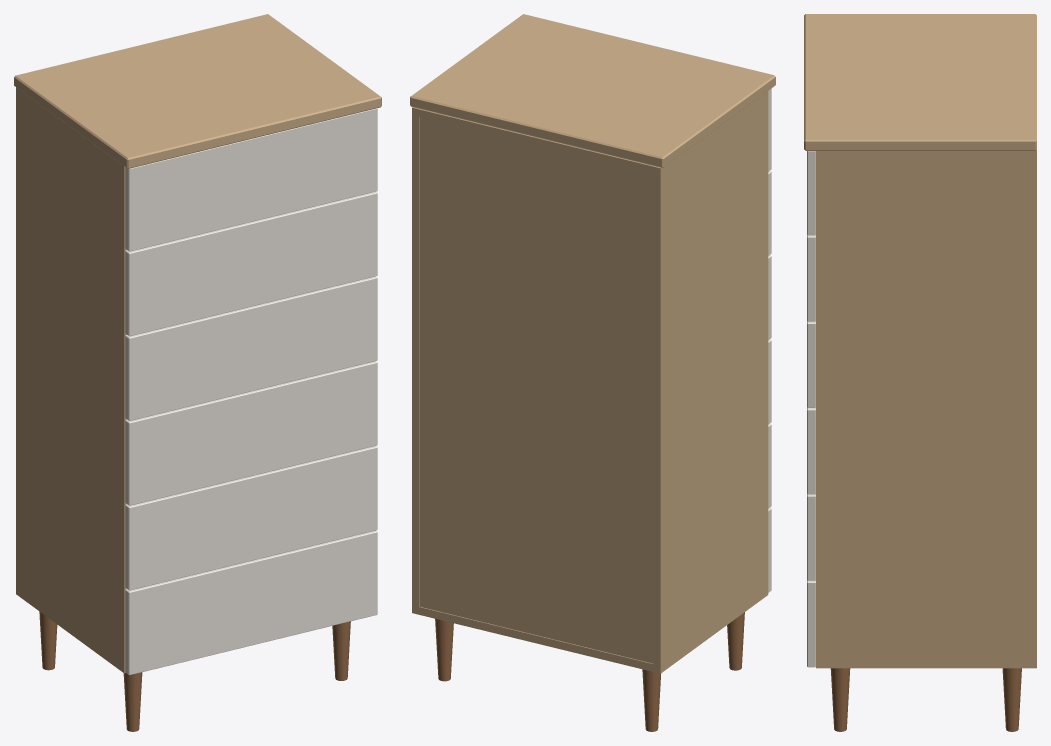
File: 07_komoda_60_6sz_wysoka.glb
3 views of the same model, side by side, from view 1: azimuth 30°, elevation 25°; view 2: azimuth 150°, elevation 25°; view 3: azimuth 270°, elevation 25° (orthographic). The views are drawn at different scales.
Parts seen in each view (by area): view 1: Korpus, Wierzch, Front_szuflada_4, Front_szuflada_5, Front_szuflada_2, Front_szuflada_3, Front_szuflada_6, Front_szuflada_1, Nogi; view 2: Korpus, Wierzch, Nogi; view 3: Korpus, Wierzch, Nogi, Front_szuflada_6, Front_szuflada_4, Front_szuflada_2, Front_szuflada_3, Front_szuflada_5, Front_szuflada_1.
Part boxes in pixels (x1,y1,x2,y2): Korpus: (16,87,126,673); Wierzch: (14,14,381,168); Front_szuflada_4: (125,361,377,505); Front_szuflada_5: (125,446,377,590); Front_szuflada_2: (125,191,377,336); Front_szuflada_3: (125,276,377,420); Front_szuflada_6: (125,530,377,675); Front_szuflada_1: (125,108,377,251); Nogi: (39,611,350,731); Korpus: (412,91,768,673); Wierzch: (410,14,775,167); Nogi: (435,612,744,731); Korpus: (816,149,1036,668); Wierzch: (804,14,1036,150); Nogi: (830,668,1021,731); Front_szuflada_6: (807,580,815,667); Front_szuflada_4: (807,407,815,494); Front_szuflada_2: (807,235,815,321); Front_szuflada_3: (807,321,815,407); Front_szuflada_5: (807,494,815,580); Front_szuflada_1: (807,151,815,235).
Bounding box in the file's own units: 0.612 × 1.35 × 0.474.
